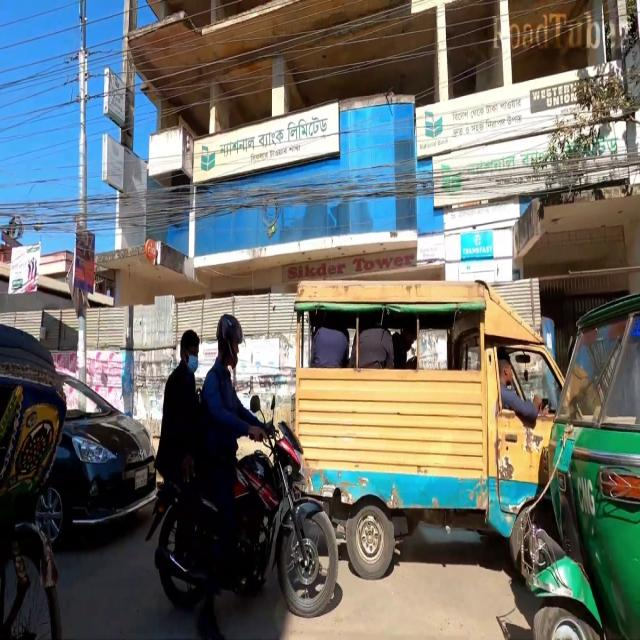black: (52, 367, 155, 550)
